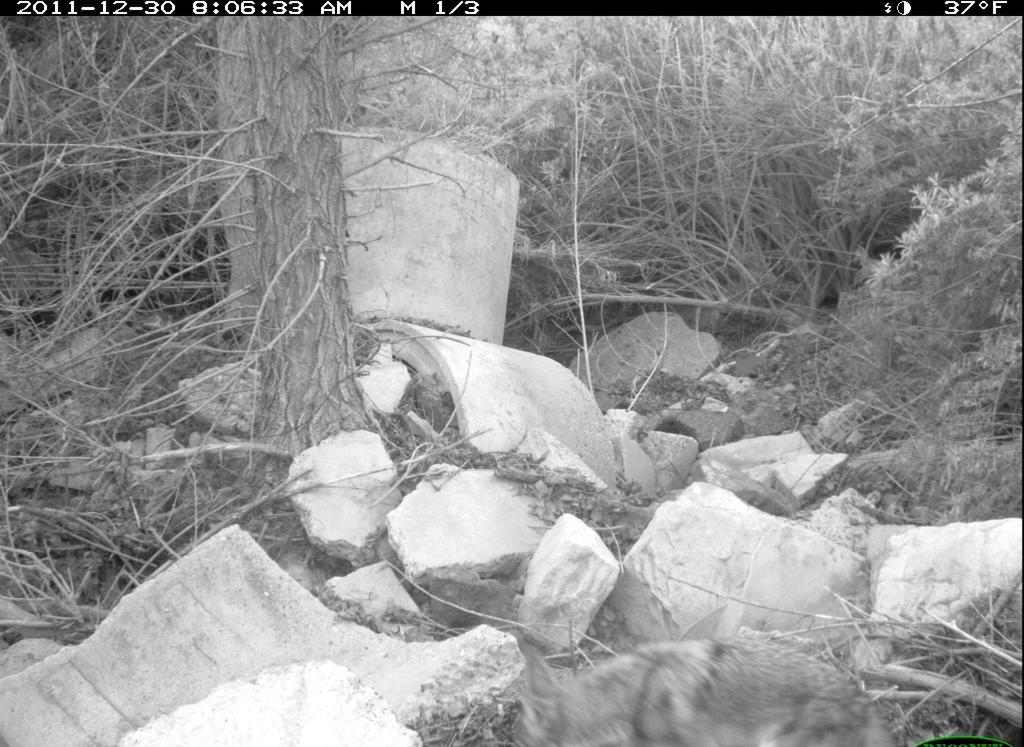coyote: (498, 611, 911, 747)
